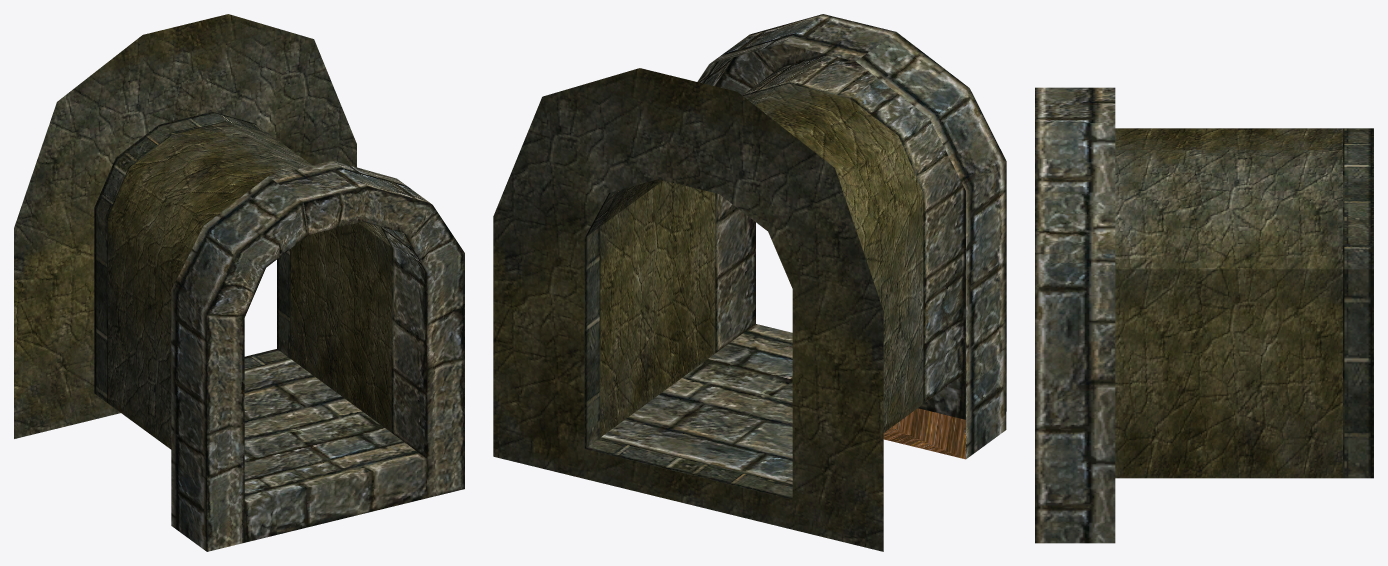
The model's file is cci08.glb.
3 views of the same model, side by side, from view 1: azimuth 30°, elevation 25°; view 2: azimuth 150°, elevation 25°; view 3: azimuth 270°, elevation 25° (orthographic). The views are drawn at different scales.
Parts seen in each view (by area): view 1: cci08; view 2: cci08; view 3: cci08.
Part boxes in pixels (x1,y1,x2,y2): cci08: (14,14,464,551); cci08: (493,14,1006,551); cci08: (1035,87,1373,543).
Bounding box in the file's own units: 3.19 × 3.43 × 2.42.
4 materials, 4 textured.
